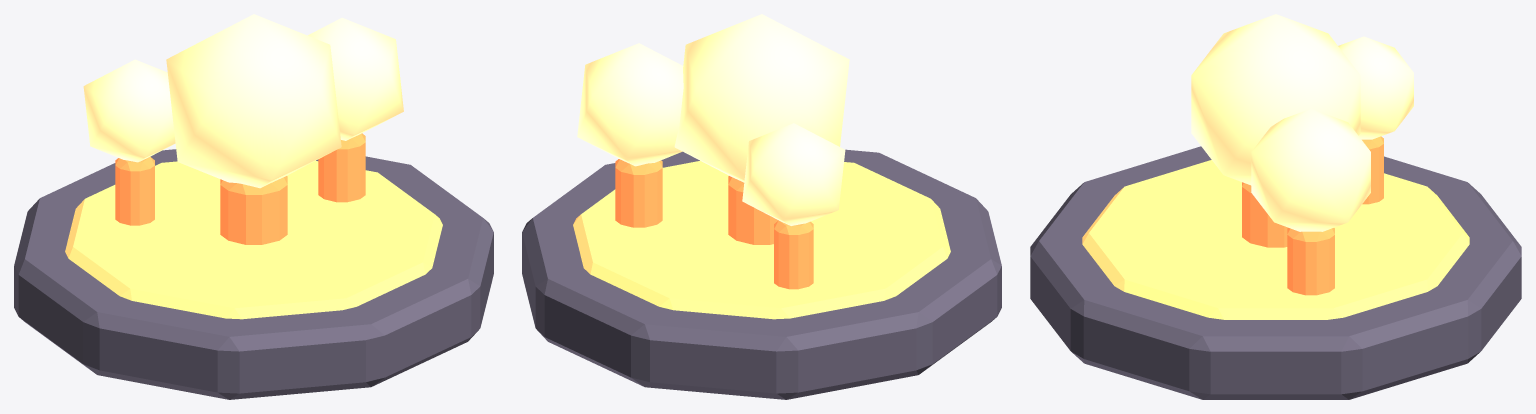
The model's file is ember_lava_bubbles.glb.
The picture shows the model from 3 angles, left to right: view 1: azimuth 30°, elevation 25°; view 2: azimuth 150°, elevation 25°; view 3: azimuth 270°, elevation 25°; orthographic projection.
Parts seen in each view (by area): view 1: ember_lava_bubbles_Body, ember_lava_bubbles_Bubble0.001, ember_lava_bubbles_Bubble2.001, ember_lava_bubbles_Bubble1.001; view 2: ember_lava_bubbles_Body, ember_lava_bubbles_Bubble0.001, ember_lava_bubbles_Bubble1.001, ember_lava_bubbles_Bubble2.001; view 3: ember_lava_bubbles_Body, ember_lava_bubbles_Bubble0.001, ember_lava_bubbles_Bubble1.001, ember_lava_bubbles_Bubble2.001.
Part boxes in pixels (x1,y1,x2,y2): ember_lava_bubbles_Body: (14,149,493,399); ember_lava_bubbles_Bubble0.001: (166,14,341,244); ember_lava_bubbles_Bubble2.001: (83,59,175,225); ember_lava_bubbles_Bubble1.001: (308,17,403,202); ember_lava_bubbles_Body: (522,149,1001,399); ember_lava_bubbles_Bubble0.001: (674,14,849,244); ember_lava_bubbles_Bubble1.001: (577,43,683,227); ember_lava_bubbles_Bubble2.001: (742,123,845,289); ember_lava_bubbles_Body: (1030,146,1521,399); ember_lava_bubbles_Bubble0.001: (1191,14,1360,247); ember_lava_bubbles_Bubble1.001: (1251,108,1370,295); ember_lava_bubbles_Bubble2.001: (1338,36,1413,204).
Bounding box in the file's own units: 1.62 × 1.09 × 1.68.
